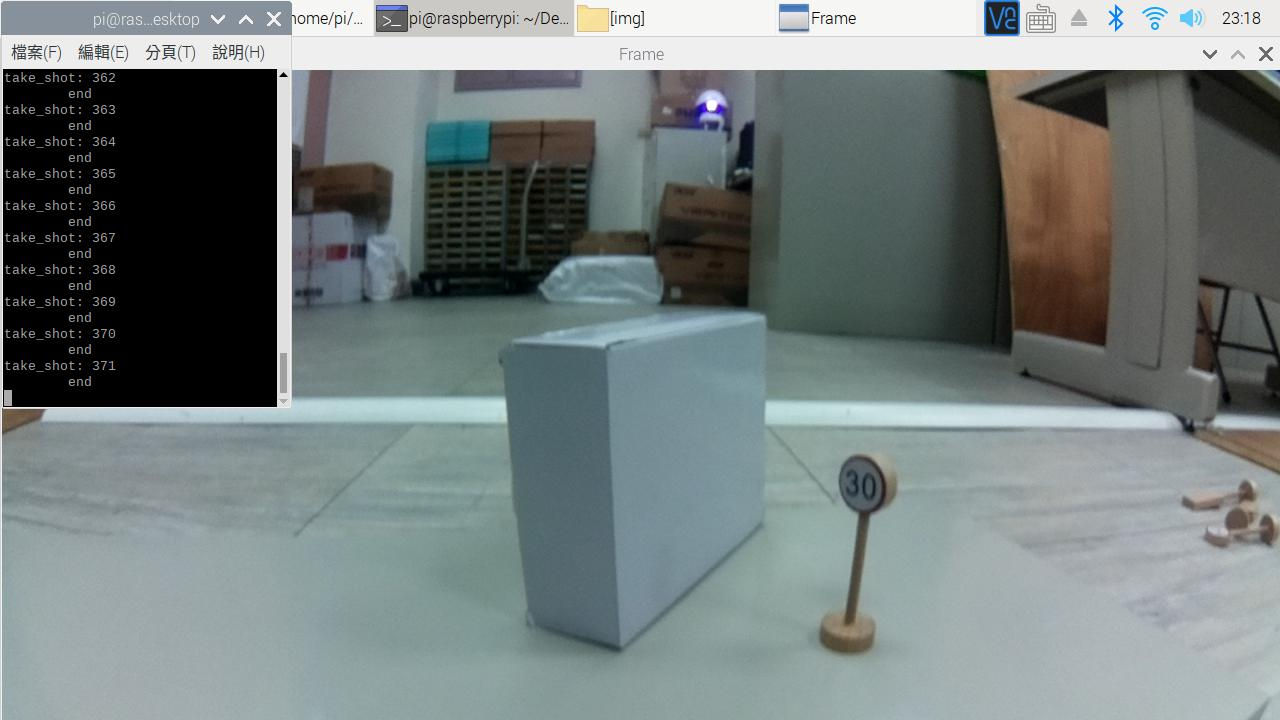Speed30: (817, 444, 927, 535)
